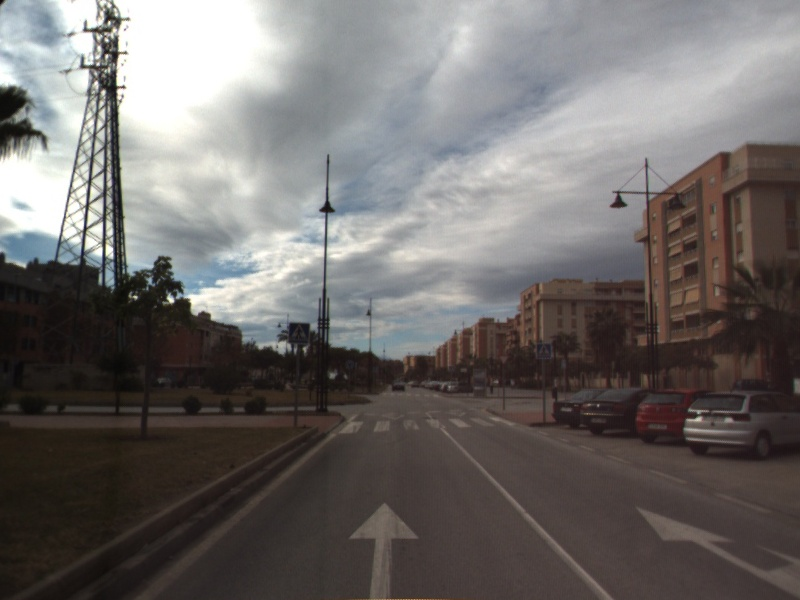STRAIGHT: (346, 500, 421, 600)
STRAIGHT_RIGHT: (634, 505, 800, 598)
